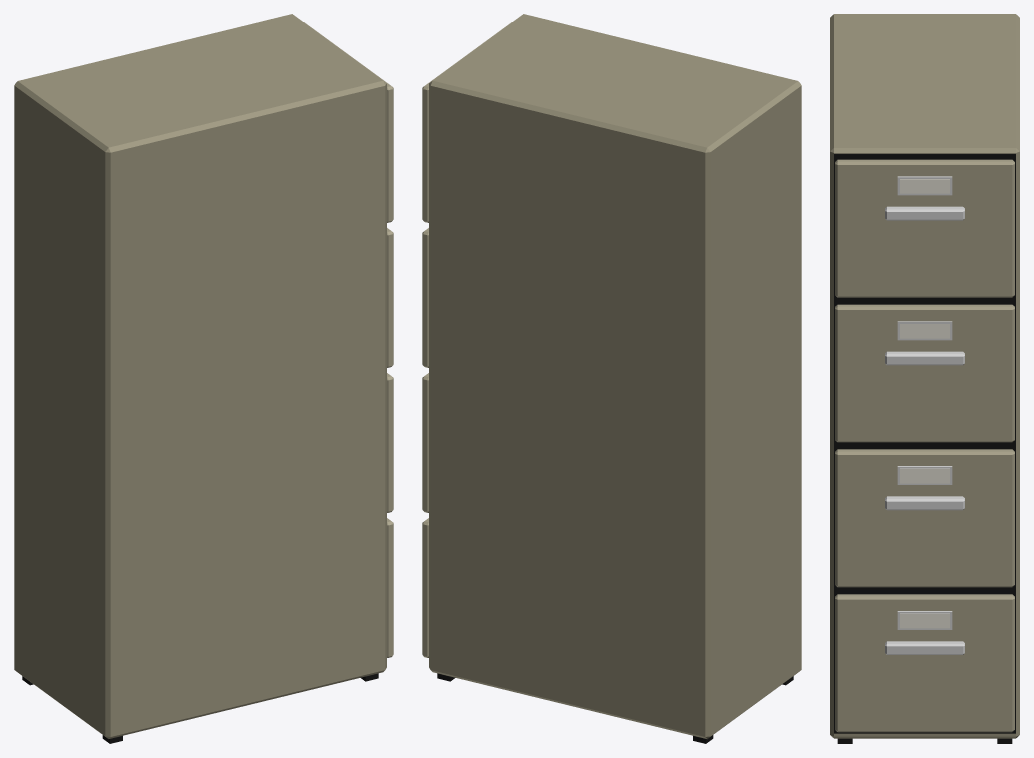
The model's file is FilingCabinet.gltf.
3 renders of one model, left to right at view 1: azimuth 30°, elevation 25°; view 2: azimuth 150°, elevation 25°; view 3: azimuth 270°, elevation 25°, orthographic.
Parts seen in each view (by area): view 1: FilingCabinet; view 2: FilingCabinet; view 3: FilingCabinet.
Part boxes in pixels (x1,y1,x2,y2): FilingCabinet: [14, 14, 393, 743]; FilingCabinet: [422, 14, 801, 743]; FilingCabinet: [830, 14, 1019, 743].
Bounding box in the file's own units: 0.69 × 1.32 × 0.38.
